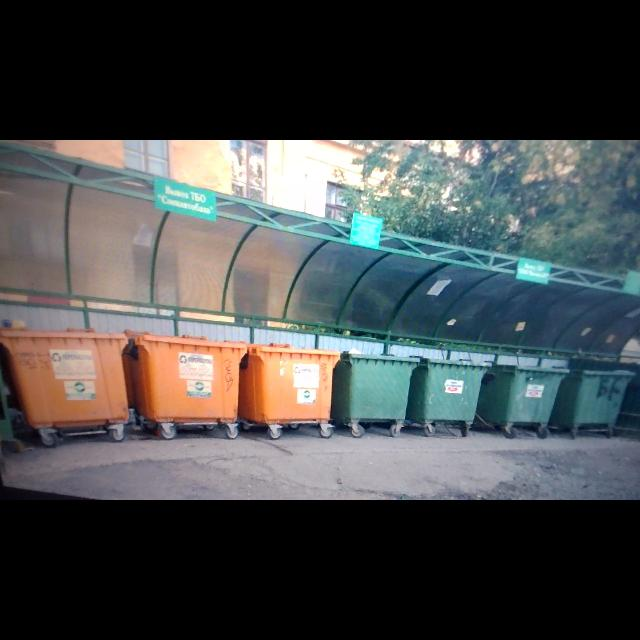Trash_Can_Empty: (0, 327, 131, 427), (133, 329, 249, 422), (239, 343, 343, 422), (333, 350, 421, 422), (407, 355, 493, 422), (479, 360, 570, 423), (551, 366, 636, 426)
